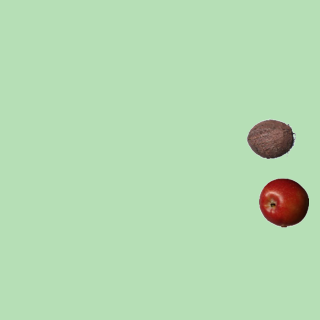Apple Braeburn: (258, 177, 308, 227)
Cocos: (245, 113, 295, 163)
